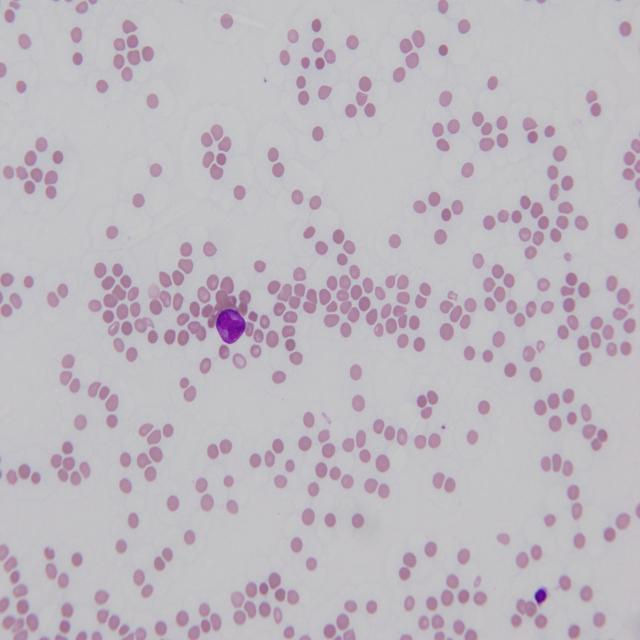cell: (216, 309, 245, 344)
